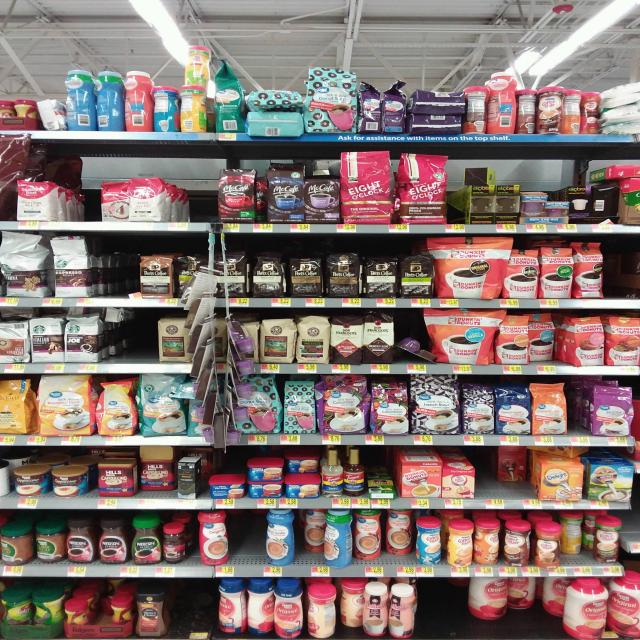void: (56, 143, 98, 231), (169, 147, 214, 229), (94, 234, 137, 307), (418, 578, 466, 638), (165, 579, 212, 639), (103, 319, 154, 374), (607, 237, 640, 309), (233, 511, 264, 576)
